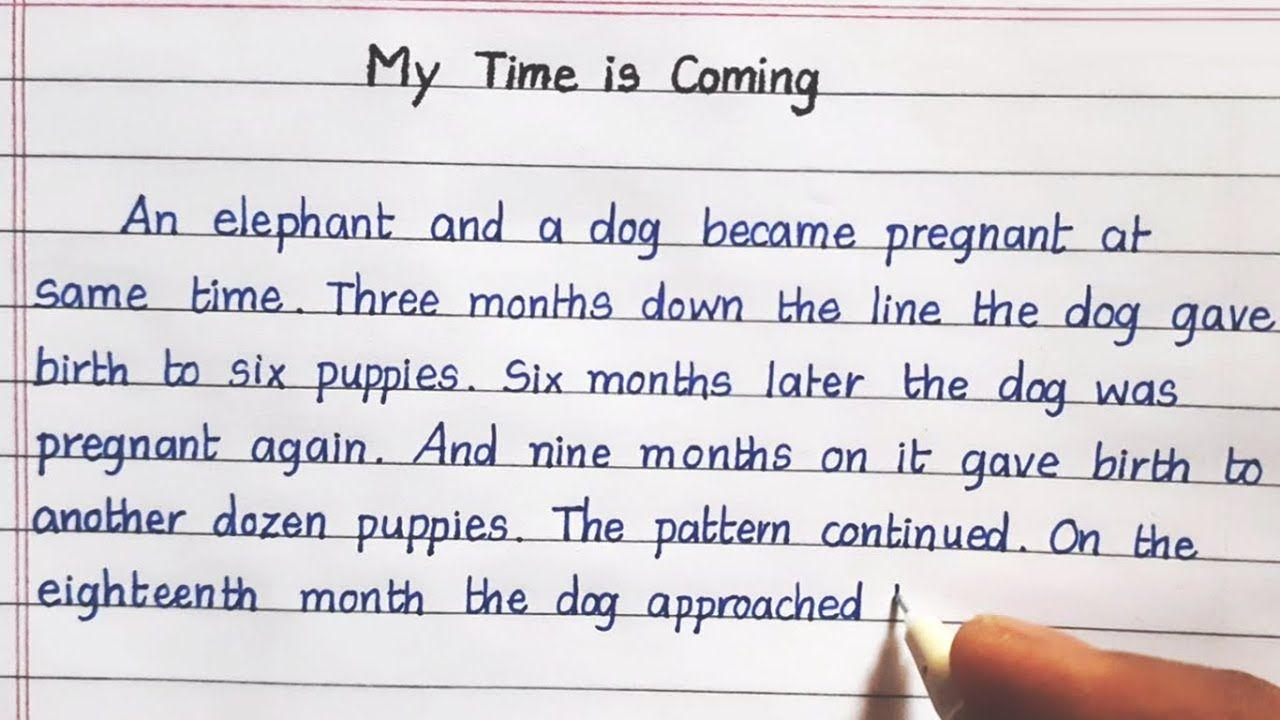text: (32, 268, 1277, 351), (36, 416, 1265, 488), (30, 344, 1181, 420), (118, 188, 1154, 270), (27, 493, 1202, 563), (36, 564, 867, 636), (364, 40, 822, 119)
